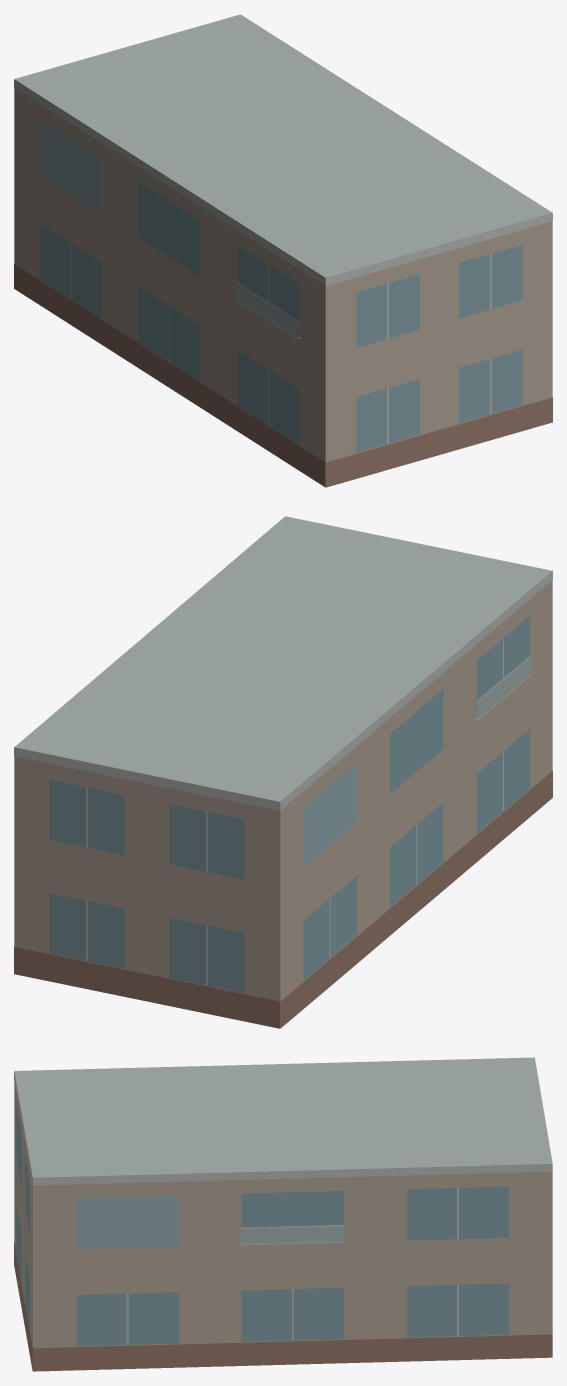
The model's file is survey-upis-32705412.glb.
3 renders of one model, top to bottom at view 1: azimuth 30°, elevation 25°; view 2: azimuth 150°, elevation 25°; view 3: azimuth 270°, elevation 25°, orthographic. The views are drawn at different scales.
Parts seen in each view (by area): view 1: survey-upis-32705412.tmp; view 2: survey-upis-32705412.tmp; view 3: survey-upis-32705412.tmp.
Boxes of the visible parts, x1=… form: survey-upis-32705412.tmp: x1=14, y1=14, x2=552, y2=487; survey-upis-32705412.tmp: x1=14, y1=516, x2=552, y2=1028; survey-upis-32705412.tmp: x1=14, y1=1057, x2=552, y2=1371.
Size of the model in its own units: 8.14 by 6.1 by 15.39.
